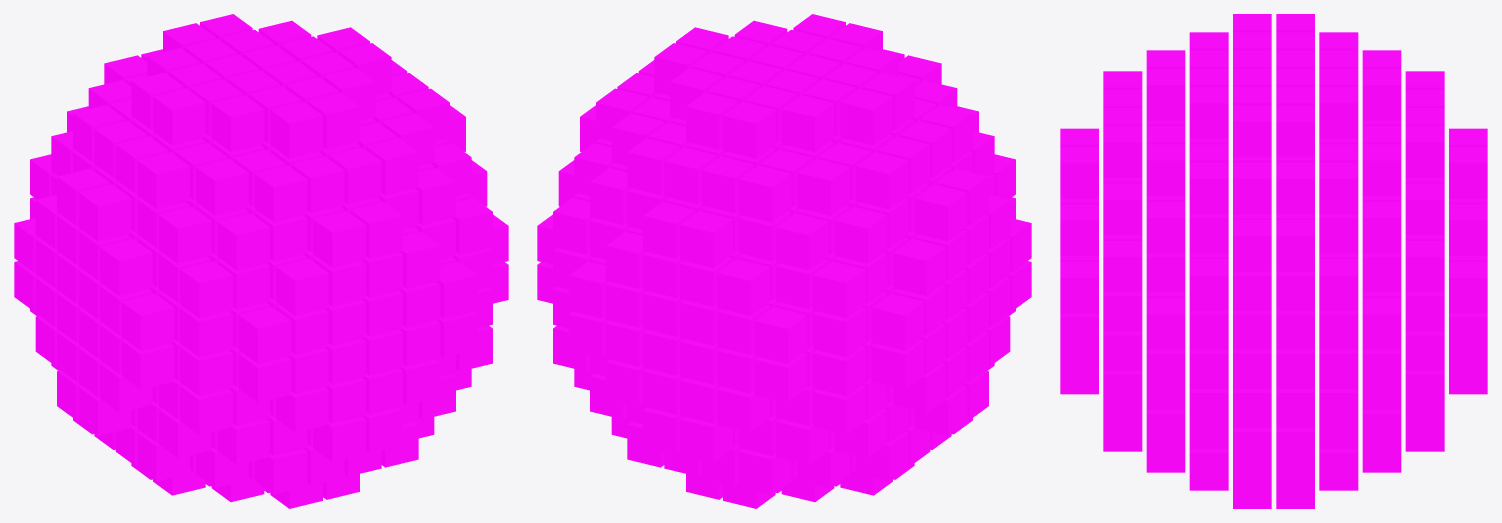
The model's file is meteor_optimized_forFBX_171115.fbx.
The picture shows the model from 3 angles, left to right: view 1: azimuth 30°, elevation 25°; view 2: azimuth 150°, elevation 25°; view 3: azimuth 270°, elevation 25°; orthographic projection.
Visible parts, largest first — view 1: Cube_872_1; view 2: Cube_872_1; view 3: Cube_872_1.
Part boxes in pixels (box(x1,y1,x2,y2)): Cube_872_1: box(14, 14, 508, 508); Cube_872_1: box(537, 14, 1031, 508); Cube_872_1: box(1060, 14, 1487, 508).
Bounding box in the file's own units: 37.46 × 37.46 × 37.46.
